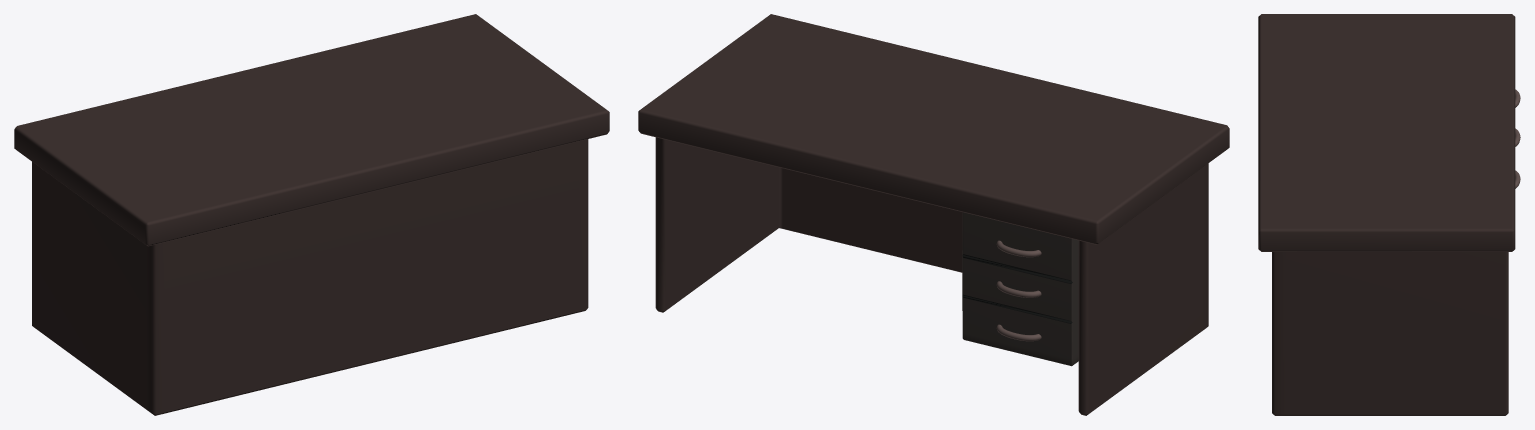
Rendered from Lehrerpult.fbx.
3 views of the same model, side by side, from view 1: azimuth 30°, elevation 25°; view 2: azimuth 150°, elevation 25°; view 3: azimuth 270°, elevation 25° (orthographic). The views are drawn at different scales.
Visible parts, largest first — view 1: Lehrerpult; view 2: Lehrerpult; view 3: Lehrerpult.
Boxes of the visible parts, bbox=[...] form: Lehrerpult: bbox=[14, 14, 609, 415]; Lehrerpult: bbox=[638, 14, 1229, 415]; Lehrerpult: bbox=[1258, 14, 1520, 415].
Bounding box in the file's own units: 176 × 73.38 × 89.75.
